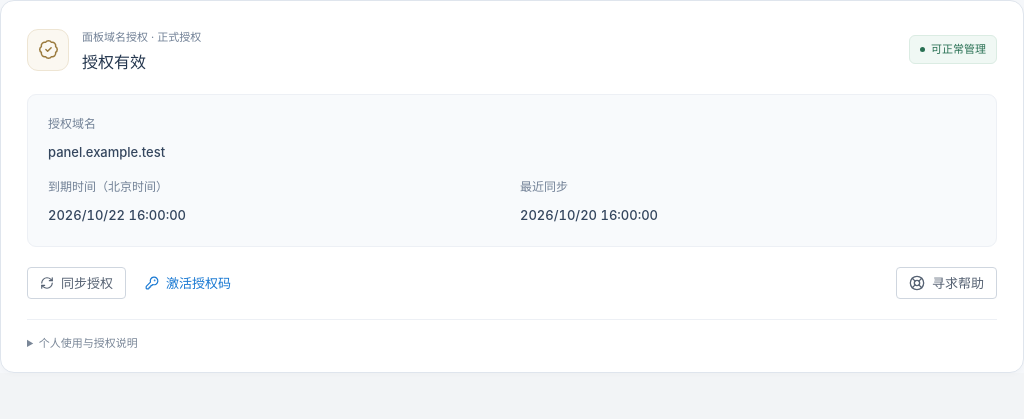
Scenario: Panel license UI › offers a contact placeholder without navigating to the issuer
Click the button "寻求帮助". click: coordinates (946, 282)
box: [896,266,997,298]
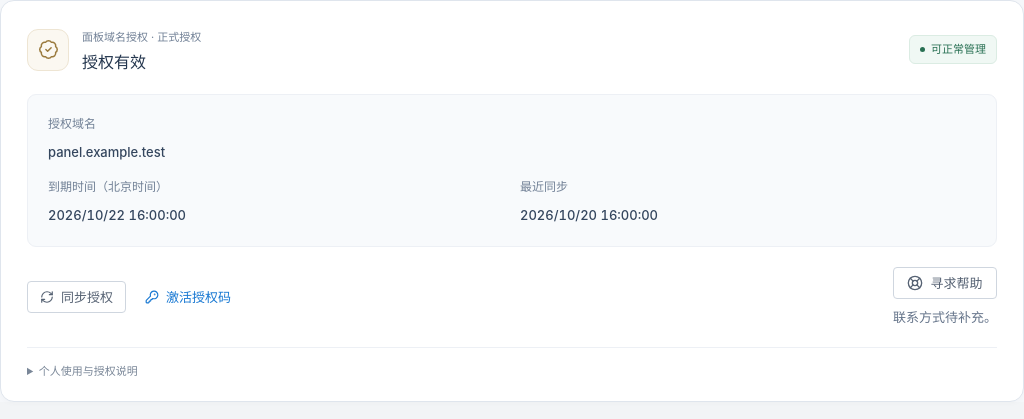
Result: the text "联系方式待补充" is shown at [893,308,997,324]
Result: the button "寻求帮助" is expanded
Click the button "寻求帮助". click: coordinates (945, 282)
box: [893,266,997,298]
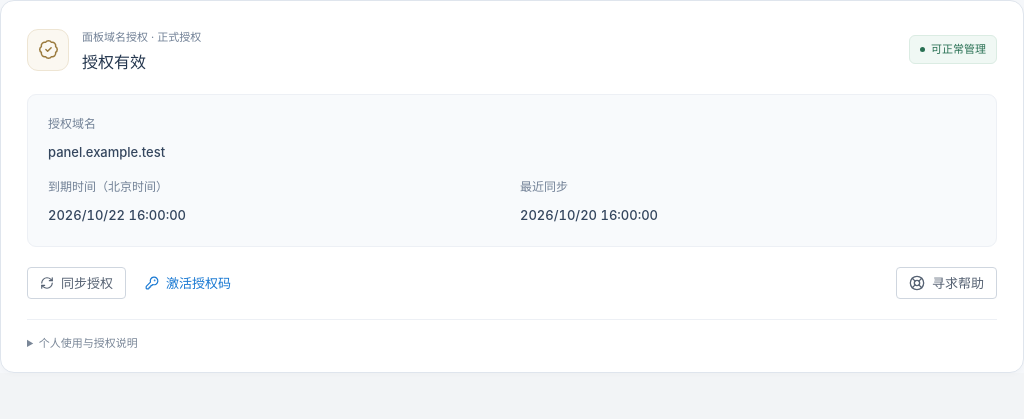
Result: the text "联系方式待补充" is gone
